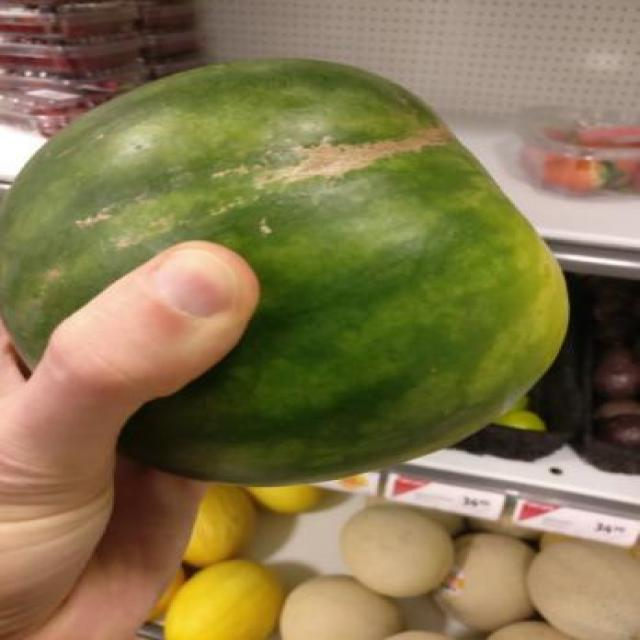Cantaloupe: (528, 540, 638, 638), (344, 506, 456, 600), (434, 534, 537, 630), (278, 576, 406, 638)
Strawberries: (519, 113, 638, 195)
Watermelon: (0, 58, 570, 488)
